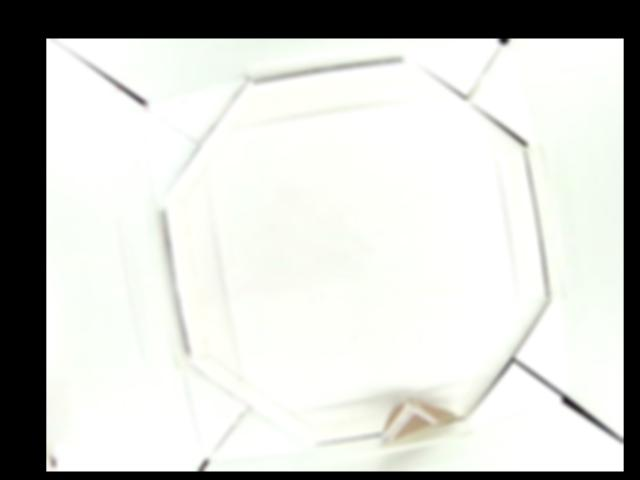China: (382, 399, 467, 443)
